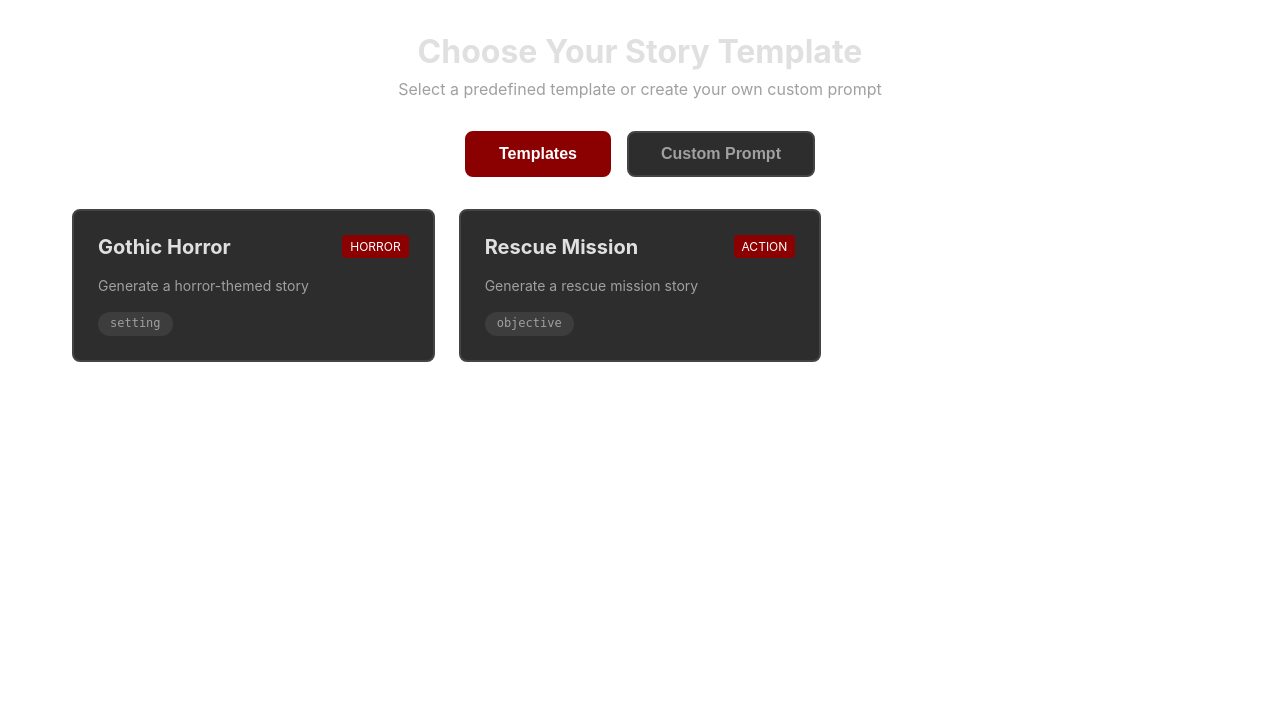
Test: TemplateGallery › switches to custom prompt mode
Expected: the heading "Gothic Horror" is shown, [98,235,231,259]
What coordinates should you click on to do the following:
click the button "Custom Prompt"
I would click on:
 (721, 154)
Its box is [627,131,815,177].
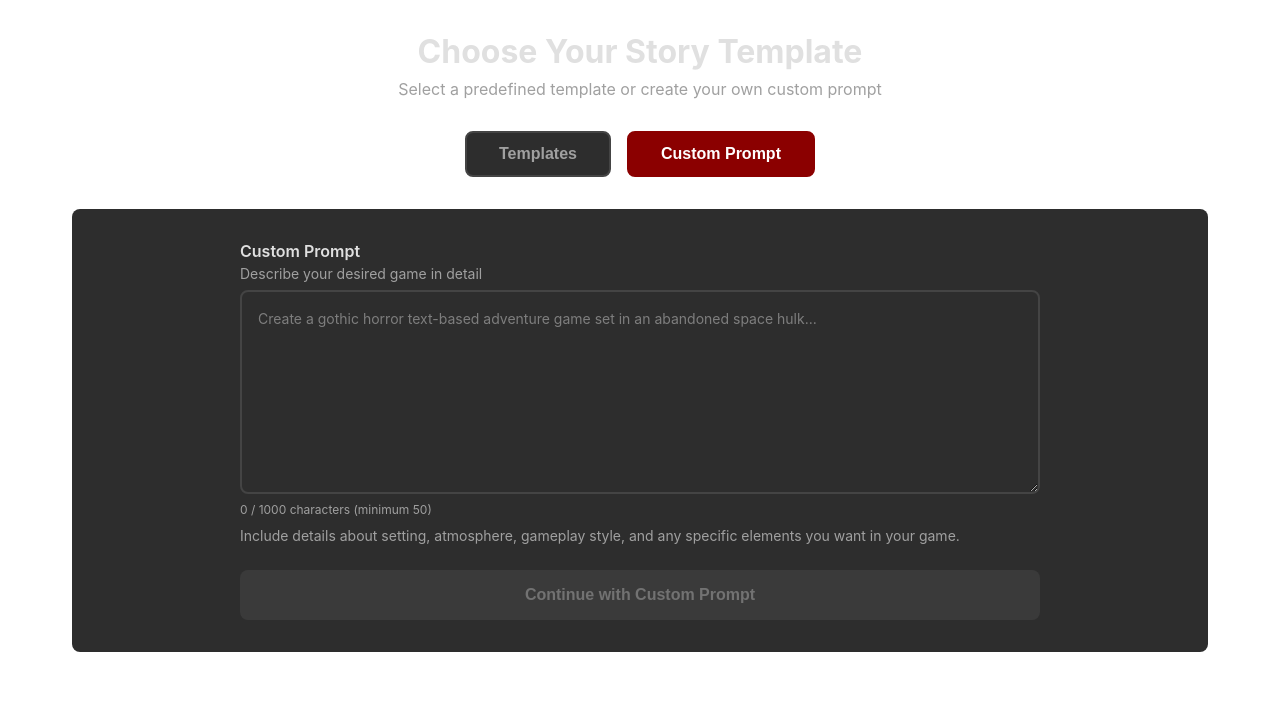
Now the text box labelled "Custom Prompt Describe your desired game in detail" is shown, box [240,290,1040,494]
